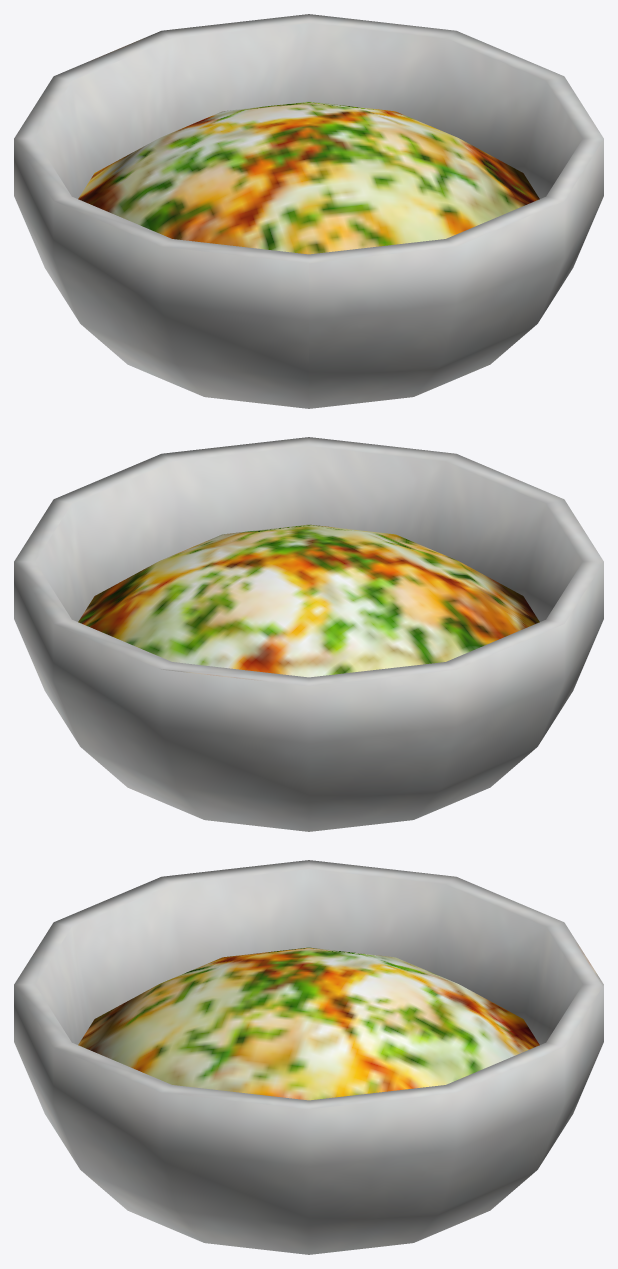
The model's file is bowl_02.obj.
3 views of the same model, one above another, from view 1: azimuth 30°, elevation 25°; view 2: azimuth 150°, elevation 25°; view 3: azimuth 270°, elevation 25° (orthographic).
Parts seen in each view (by area): view 1: bowl.02; view 2: bowl.02; view 3: bowl.02.
Part boxes in pixels (bbox=[...]): bowl.02: bbox=[14, 14, 603, 408]; bowl.02: bbox=[14, 437, 603, 831]; bowl.02: bbox=[14, 860, 603, 1254].
Size of the model in its own units: 0.2772 by 0.1138 by 0.2772.
